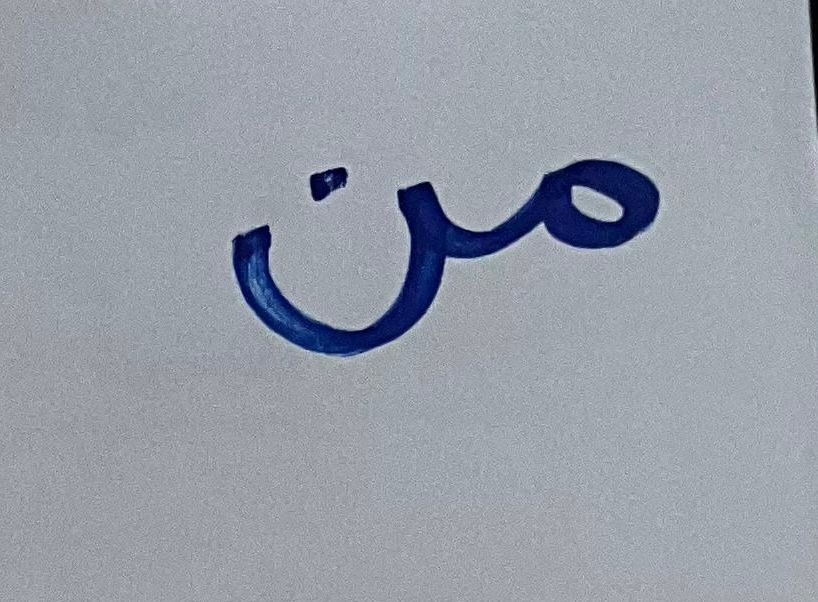meem: (481, 125, 675, 271)
noon: (220, 134, 468, 366)
